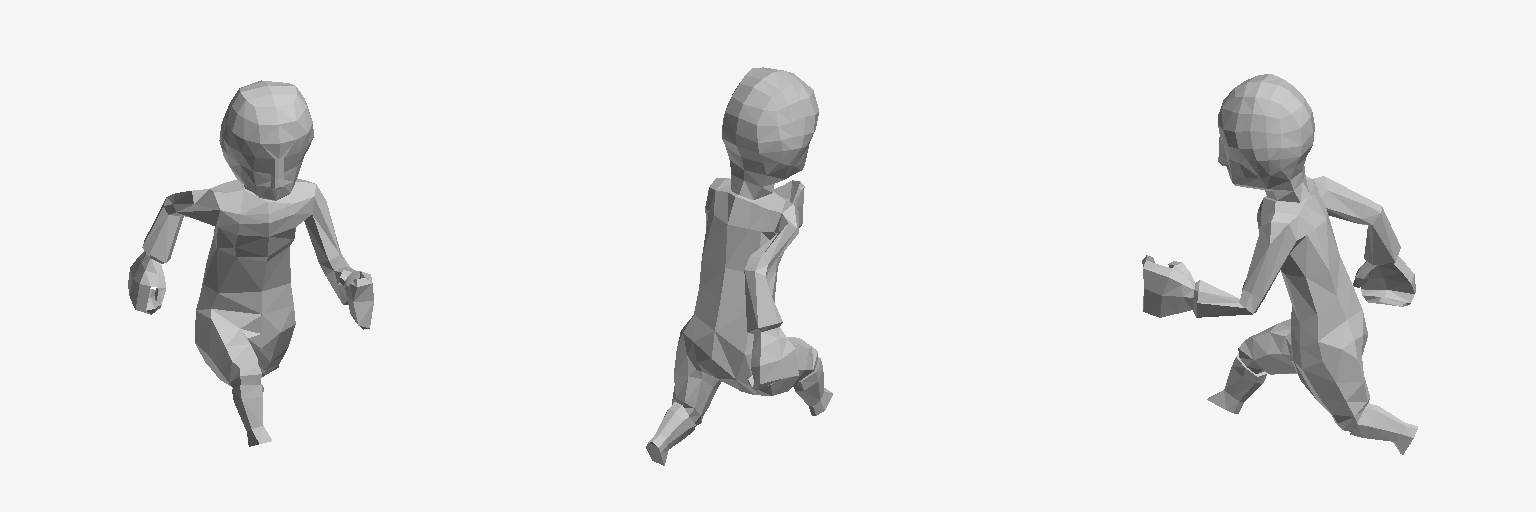
File: KnightCharacter19.obj
The picture shows the model from 3 angles: view 1: azimuth 30°, elevation 25°; view 2: azimuth 150°, elevation 25°; view 3: azimuth 270°, elevation 25°; orthographic projection.
Visible parts, largest first — view 1: Knight; view 2: Knight; view 3: Knight.
Boxes of the visible parts, x1,y1,x2,y2 form: Knight: [128, 80, 373, 446]; Knight: [646, 67, 832, 465]; Knight: [1142, 74, 1417, 454].
Bounding box in the file's own units: 2.25 × 5 × 3.54.